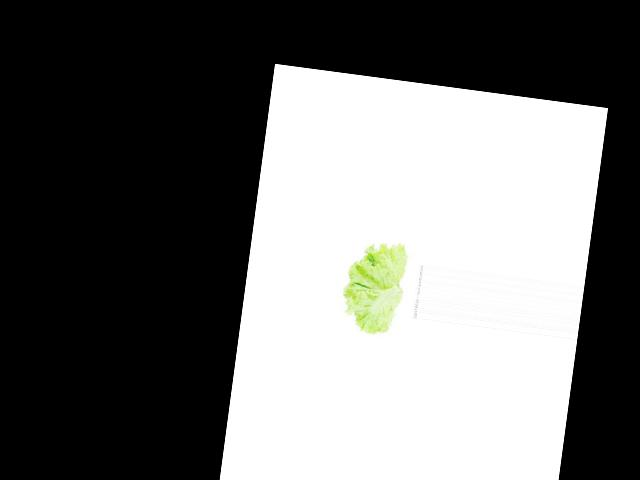lettuce: (329, 224, 423, 348)
